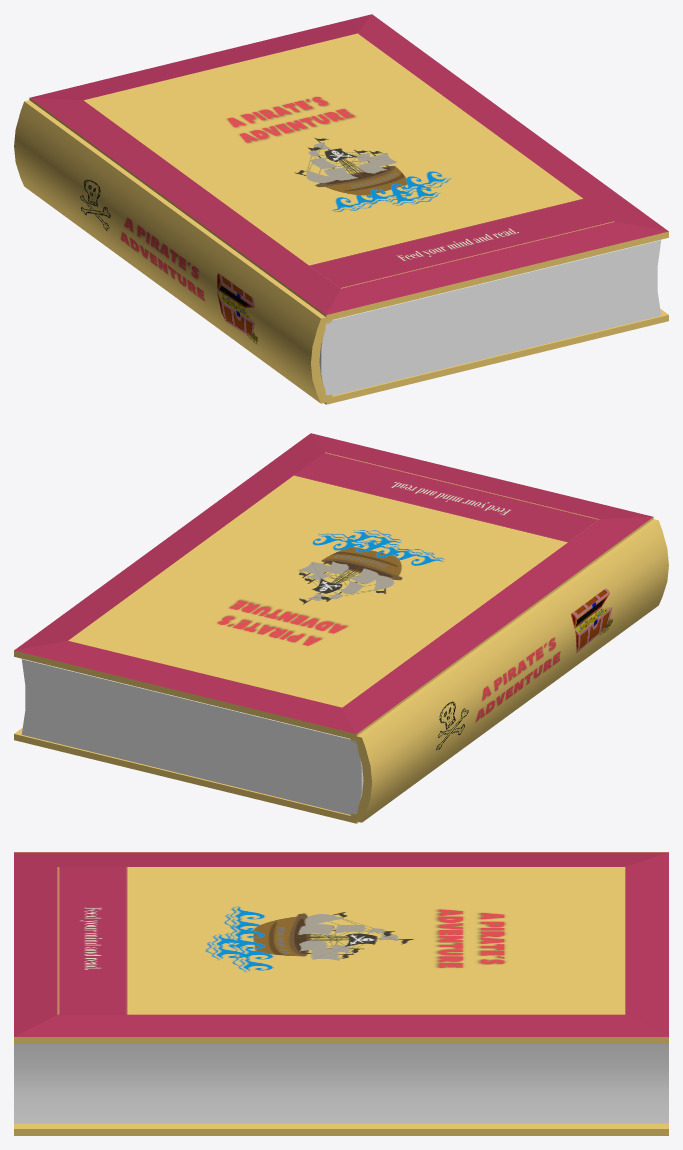
The model's file is Book 4.fbx.
3 renders of one model, top to bottom at view 1: azimuth 30°, elevation 25°; view 2: azimuth 150°, elevation 25°; view 3: azimuth 270°, elevation 25°, orthographic. The views are drawn at different scales.
Parts seen in each view (by area): view 1: Book 4; view 2: Book 4; view 3: Book 4.
Boxes of the visible parts, bbox=[...] form: Book 4: bbox=[14, 14, 668, 404]; Book 4: bbox=[14, 433, 668, 823]; Book 4: bbox=[14, 852, 668, 1135].
Bounding box in the file's own units: 20.9 × 5.4 × 30.
Materials: 1 (1 with a texture image).
